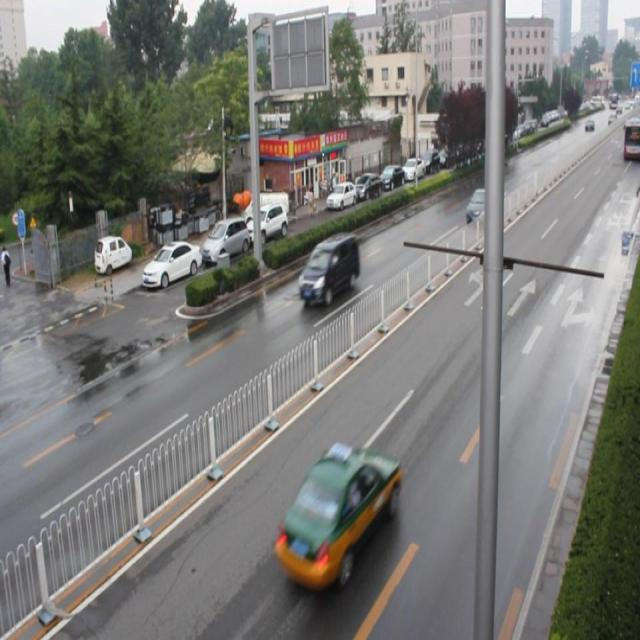car: (272, 441, 399, 588), (298, 235, 358, 303), (464, 184, 496, 226)
